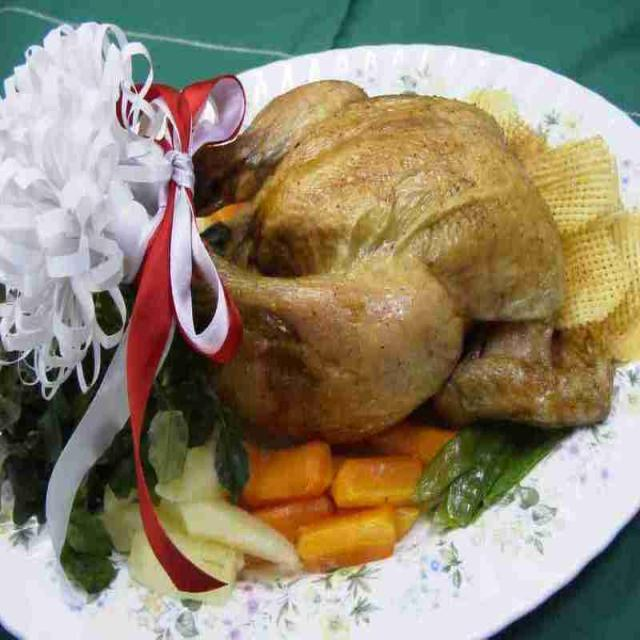Chicken: (243, 84, 602, 430)
